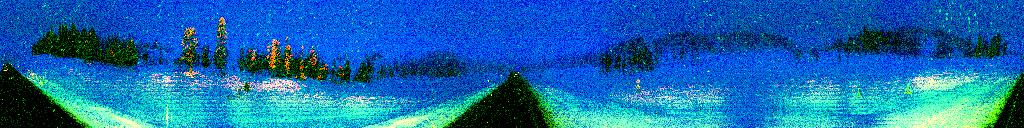pole: (163, 99, 170, 128)
